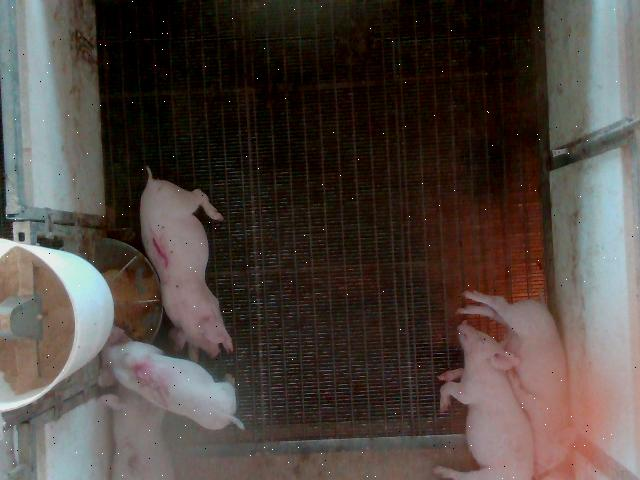pig-1: (140, 168, 232, 356)
pig-3: (99, 385, 174, 478)
pig-5: (99, 328, 244, 429)
